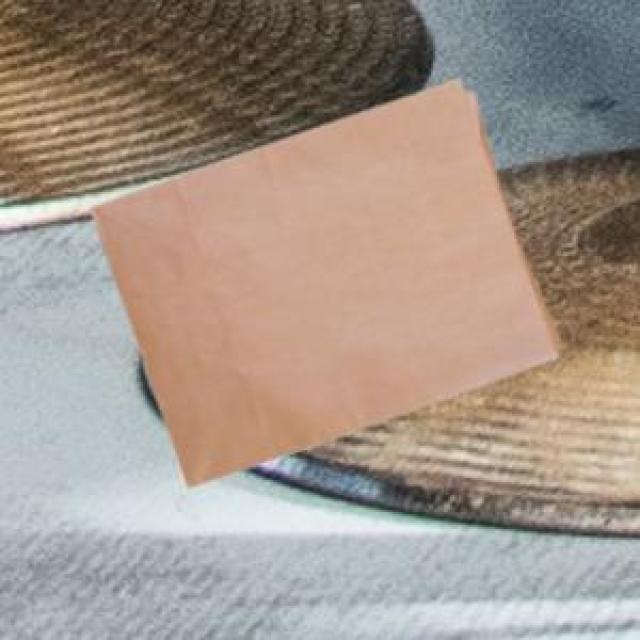paper: (88, 77, 557, 482)
